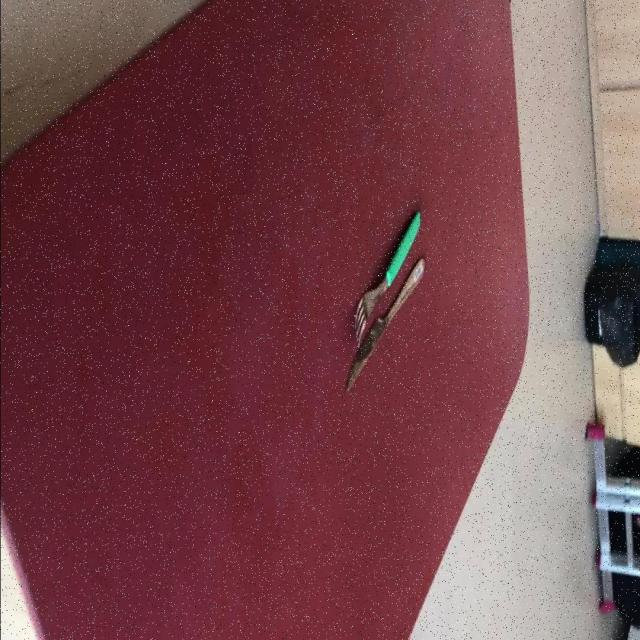Fork: (354, 212, 422, 350)
Knife: (344, 258, 426, 396)
